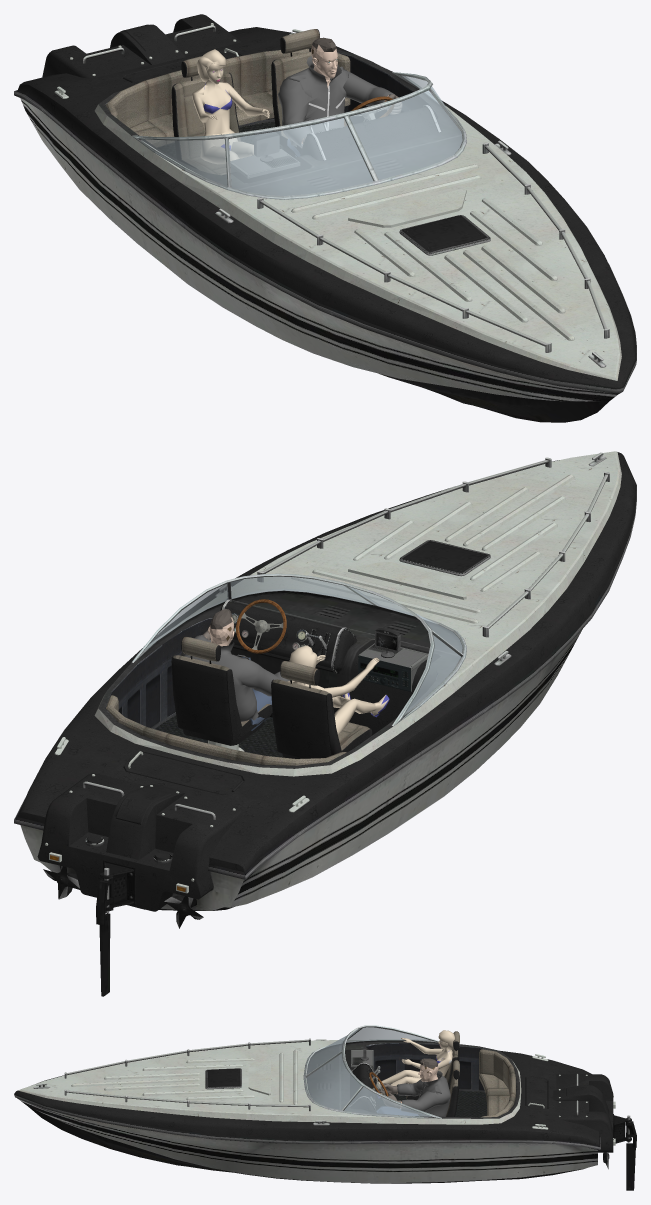
File: boat_03.glb
The picture shows the model from 3 angles, top to bottom: view 1: azimuth 30°, elevation 25°; view 2: azimuth 150°, elevation 25°; view 3: azimuth 270°, elevation 25°; orthographic projection. The views are drawn at different scales.
Visible parts, largest first — view 1: boat_VIS, man_VIS, woman_VIS; view 2: boat_VIS, man_VIS, woman_VIS; view 3: boat_VIS, man_VIS, woman_VIS.
Part boxes in pixels (x1,y1,x2,y2): boat_VIS: (14, 14, 636, 422); man_VIS: (277, 37, 401, 156); woman_VIS: (192, 49, 269, 163); boat_VIS: (14, 451, 636, 996); man_VIS: (180, 609, 290, 730); woman_VIS: (287, 645, 389, 735); boat_VIS: (14, 1025, 636, 1190); man_VIS: (376, 1058, 450, 1116); woman_VIS: (376, 1030, 454, 1097).
Size of what is drawn, in the model's own units: 2.67 by 2.02 by 7.77.
32 materials, 11 textured.
